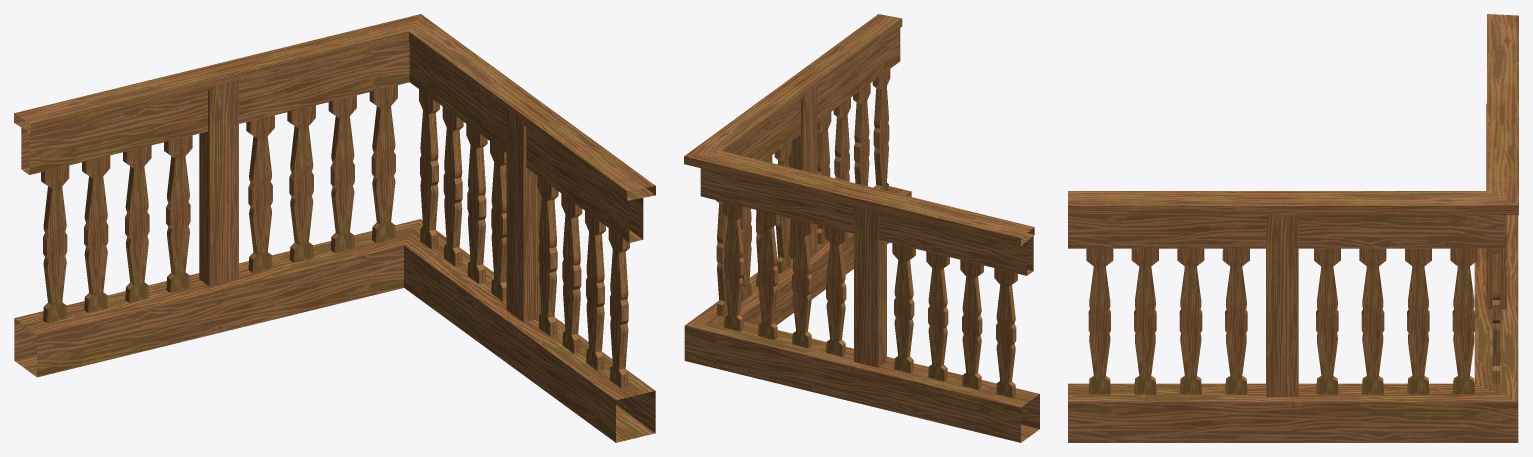
File: wall-qm-balconysimplecorner.glb
3 views of the same model, side by side, from view 1: azimuth 30°, elevation 25°; view 2: azimuth 150°, elevation 25°; view 3: azimuth 270°, elevation 25° (orthographic). The views are drawn at different scales.
Parts seen in each view (by area): view 1: Cube_113; view 2: Cube_113; view 3: Cube_113.
Part boxes in pixels (box(x1,y1,x2,y2)): Cube_113: box(14, 14, 655, 442); Cube_113: box(684, 14, 1039, 442); Cube_113: box(1068, 14, 1518, 442).
Bounding box in the file's own units: 2.1 × 1.23 × 2.1.
1 material, 1 textured.
